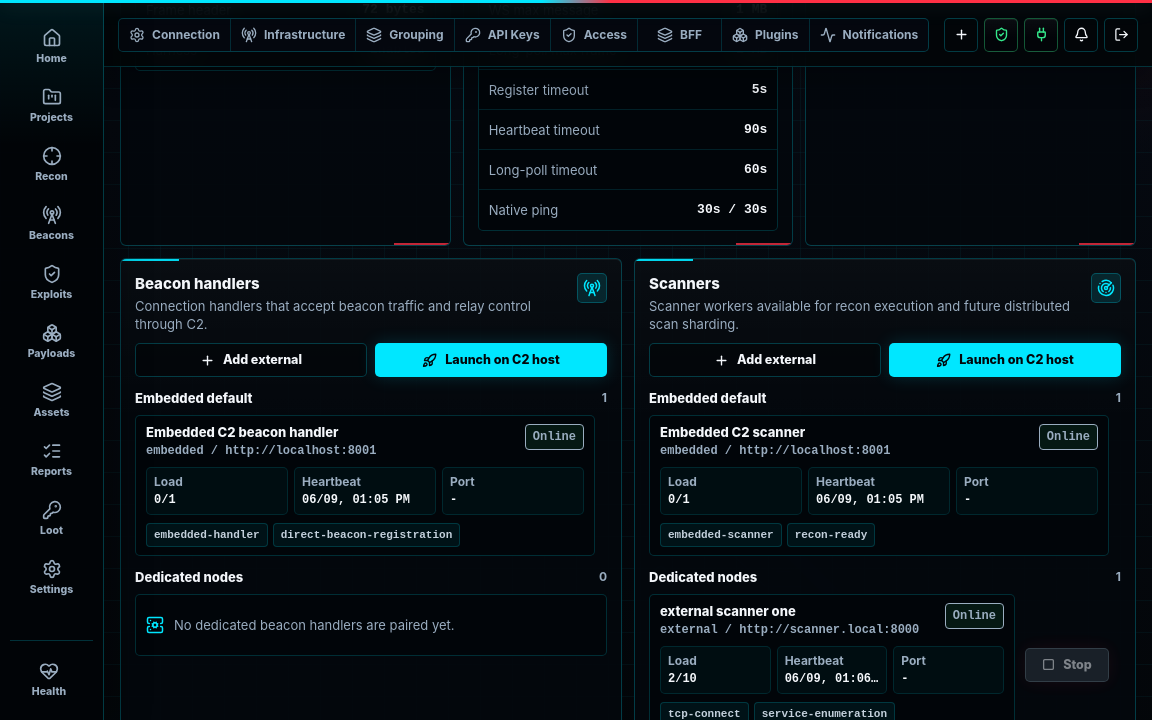
C2SettingsPage › creates a one-time pairing token for an external worker
(page scrolled)
Expected: the text "external scanner one" is shown, 660,603 -> 796,619
Click the button "Add external" below "Scanners" at (765, 360), box 649,343 -> 881,377
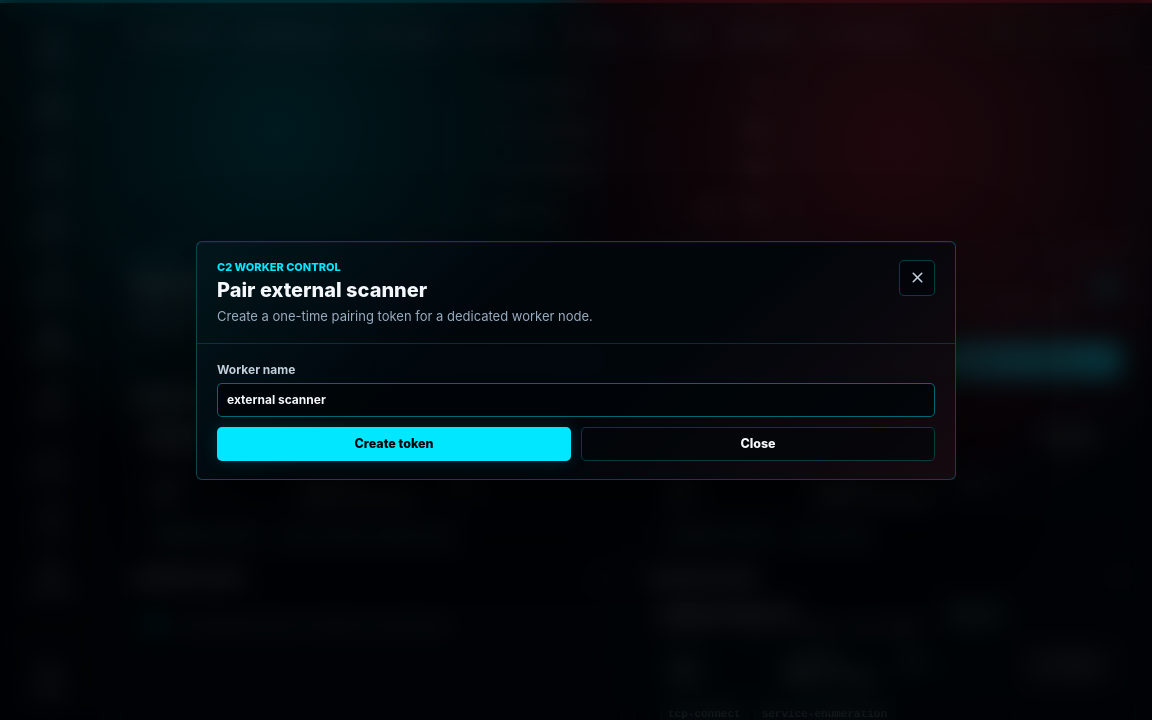
Replace the text in the field labelled "Worker name" with "edge scanner" at (576, 400), box 217,382 -> 935,416
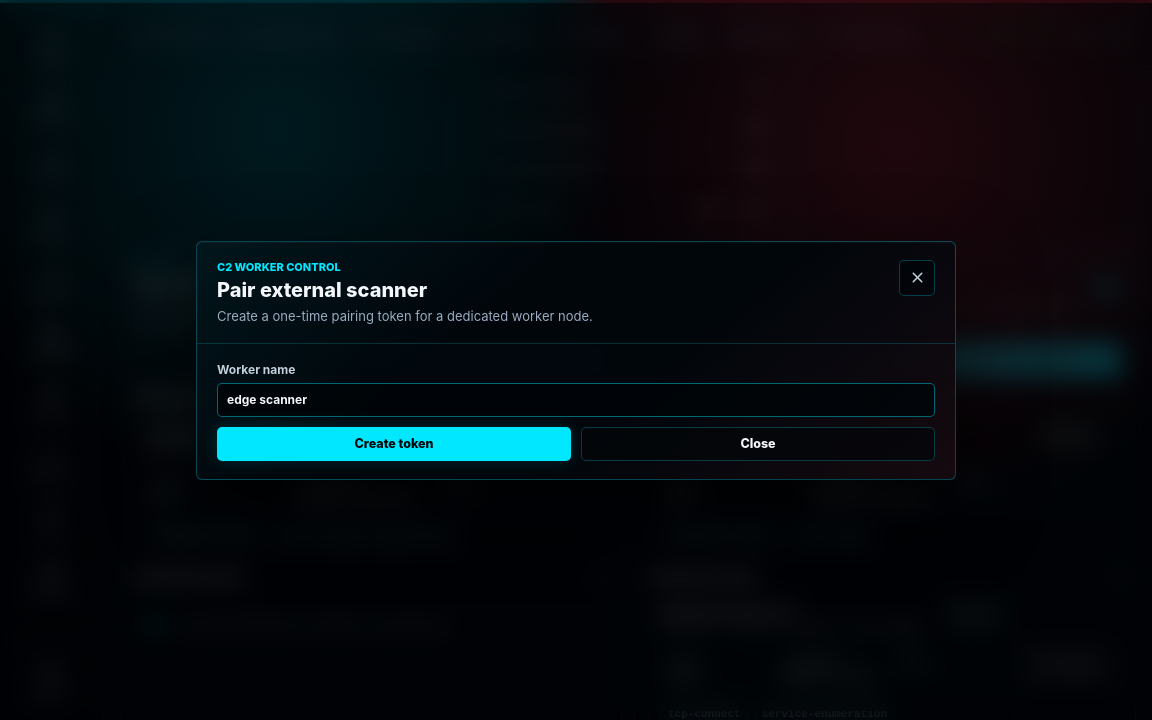
Click the button "Create token" at (394, 444), box 217,426 -> 571,460
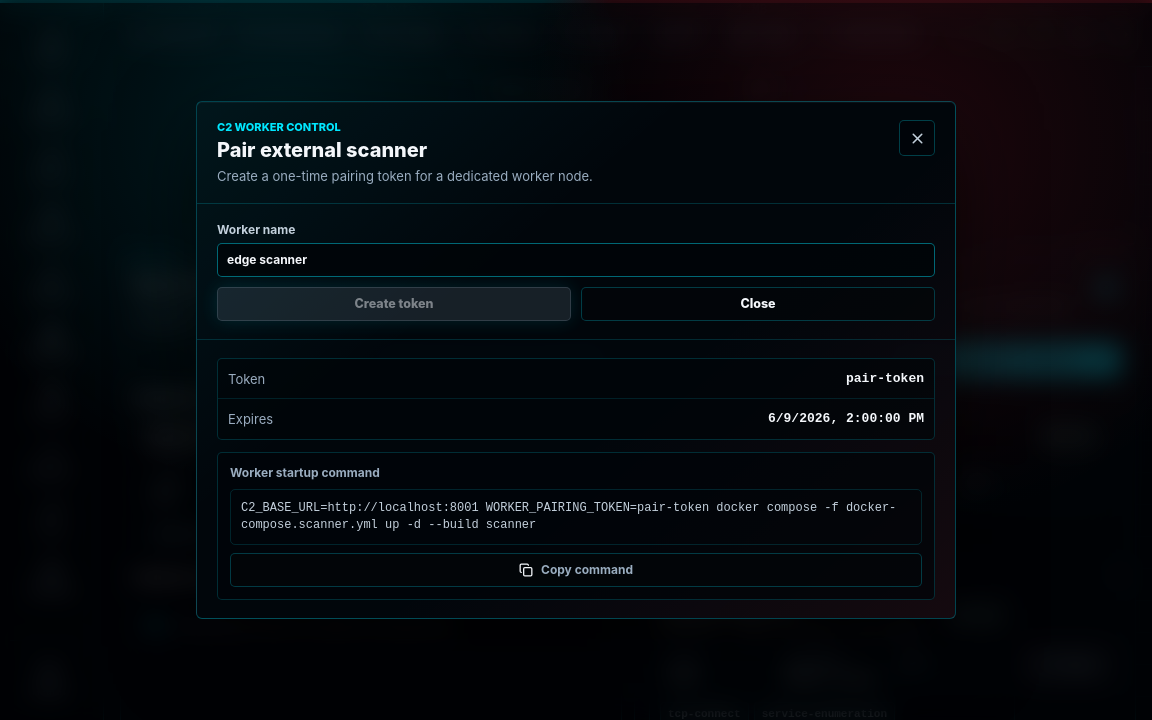
Now the element with test id "pairing-result" shows "pair-token", box 846,370 -> 924,386
Now the element with test id "pairing-result" shows "docker-compose.scanner.yml", box 241,501 -> 896,532
